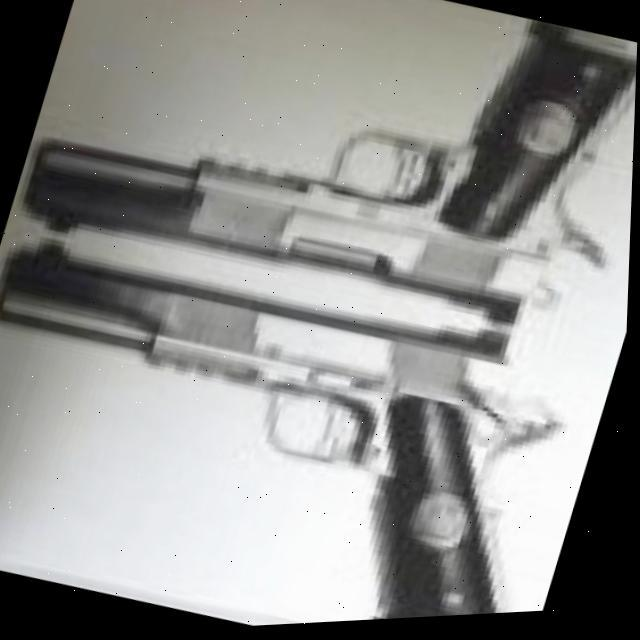gun: (0, 209, 610, 640), (13, 0, 640, 388)
